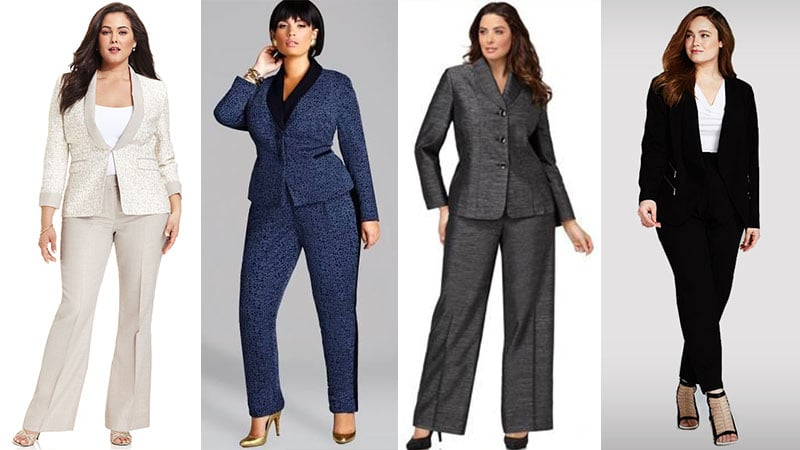feet: (238, 382, 372, 449), (8, 392, 149, 450), (408, 393, 538, 450), (665, 365, 749, 449)
